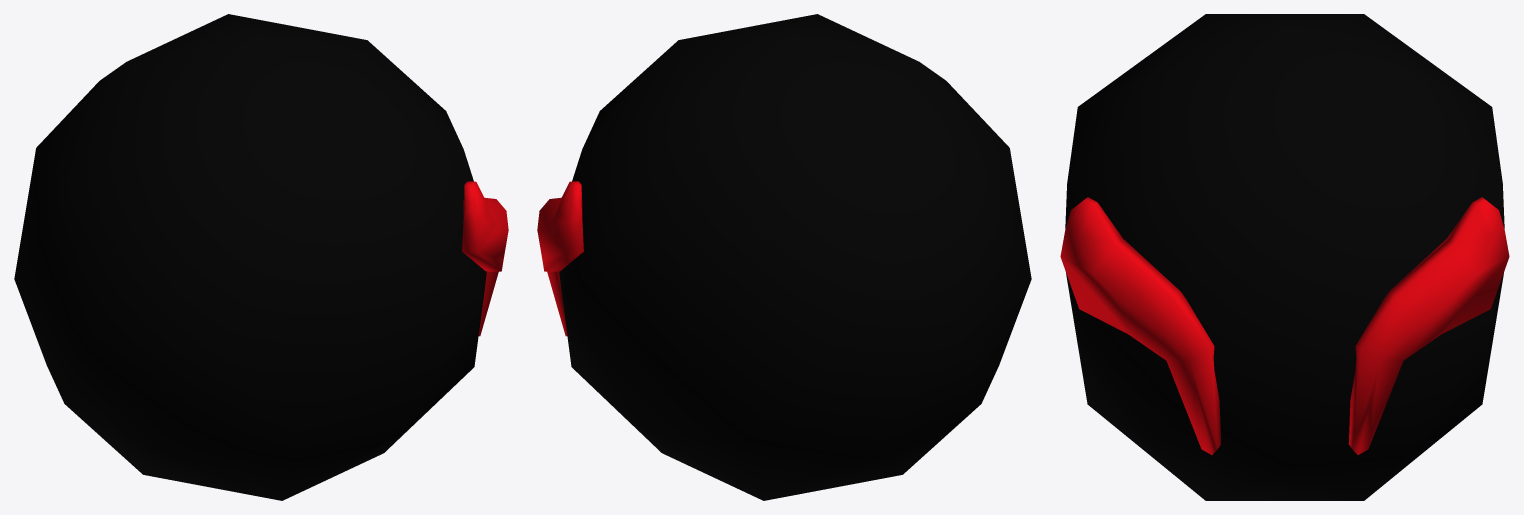
The model's file is monstre.fbx.
The picture shows the model from 3 angles, left to right: view 1: azimuth 30°, elevation 25°; view 2: azimuth 150°, elevation 25°; view 3: azimuth 270°, elevation 25°; orthographic projection. The views are drawn at different scales.
Parts seen in each view (by area): view 1: Icosphere.001; view 2: Icosphere.001; view 3: Icosphere.001.
Boxes of the visible parts, x1=… form: Icosphere.001: x1=14, y1=14, x2=508, y2=500; Icosphere.001: x1=537, y1=14, x2=1031, y2=500; Icosphere.001: x1=1060, y1=14, x2=1509, y2=500.
Size of the model in its own units: 139 by 145 by 127.
